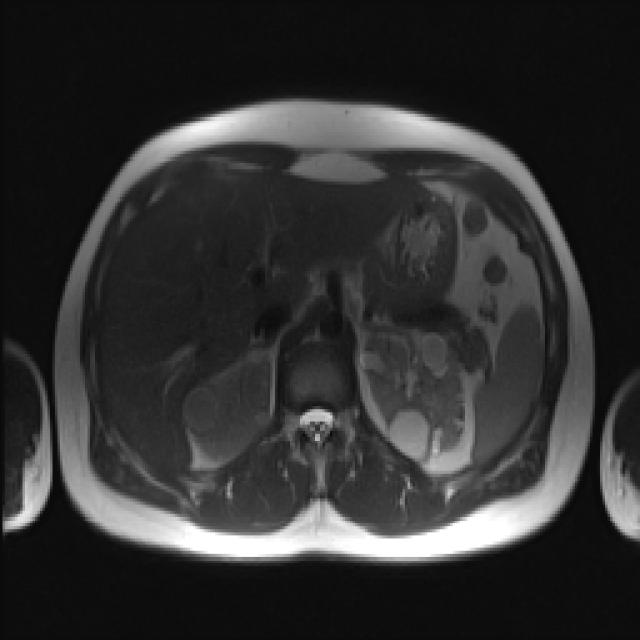sag: (182, 347, 272, 466)
sol: (359, 319, 465, 461)
